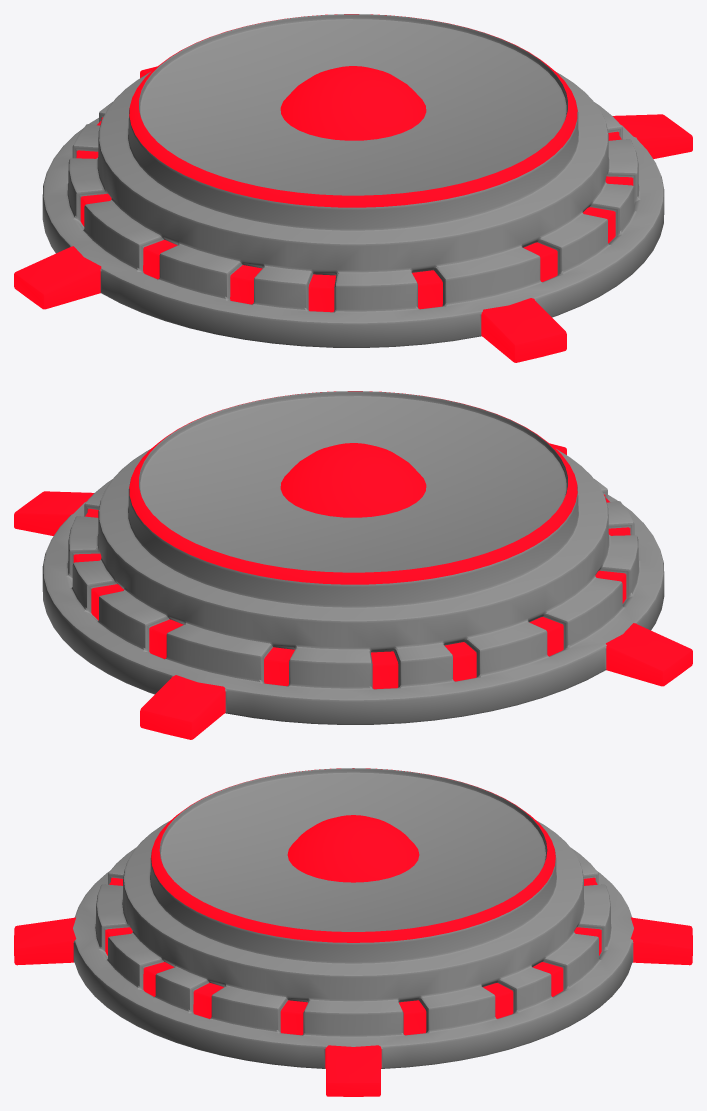
The model's file is Elevator.fbx.
3 renders of one model, top to bottom at view 1: azimuth 30°, elevation 25°; view 2: azimuth 150°, elevation 25°; view 3: azimuth 270°, elevation 25°, orthographic. The views are drawn at different scales.
Visible parts, largest first — view 1: Cylinder; view 2: Cylinder; view 3: Cylinder.
Boxes of the visible parts, x1,y1,x2,y2 form: Cylinder: (14,14,692,362); Cylinder: (14,391,692,739); Cylinder: (14,768,692,1096).
Bounding box in the file's own units: 242 × 51.91 × 242.
